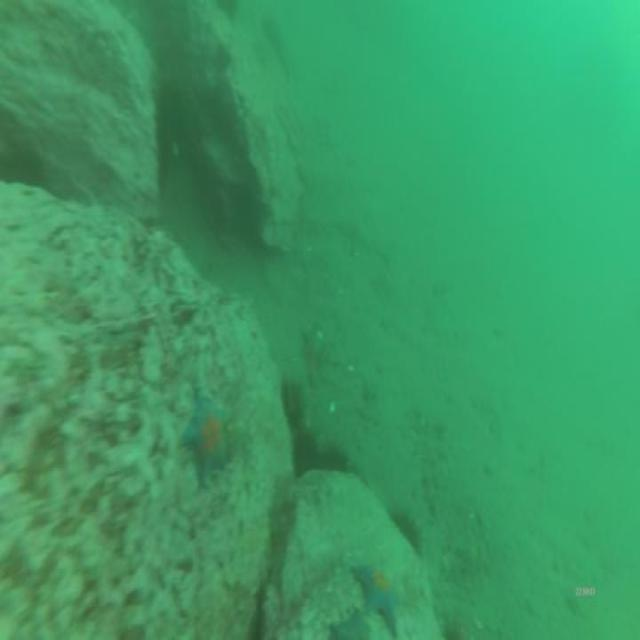echinus: (279, 378, 302, 422), (297, 425, 316, 474)
starfish: (352, 561, 405, 635), (184, 398, 228, 484)
